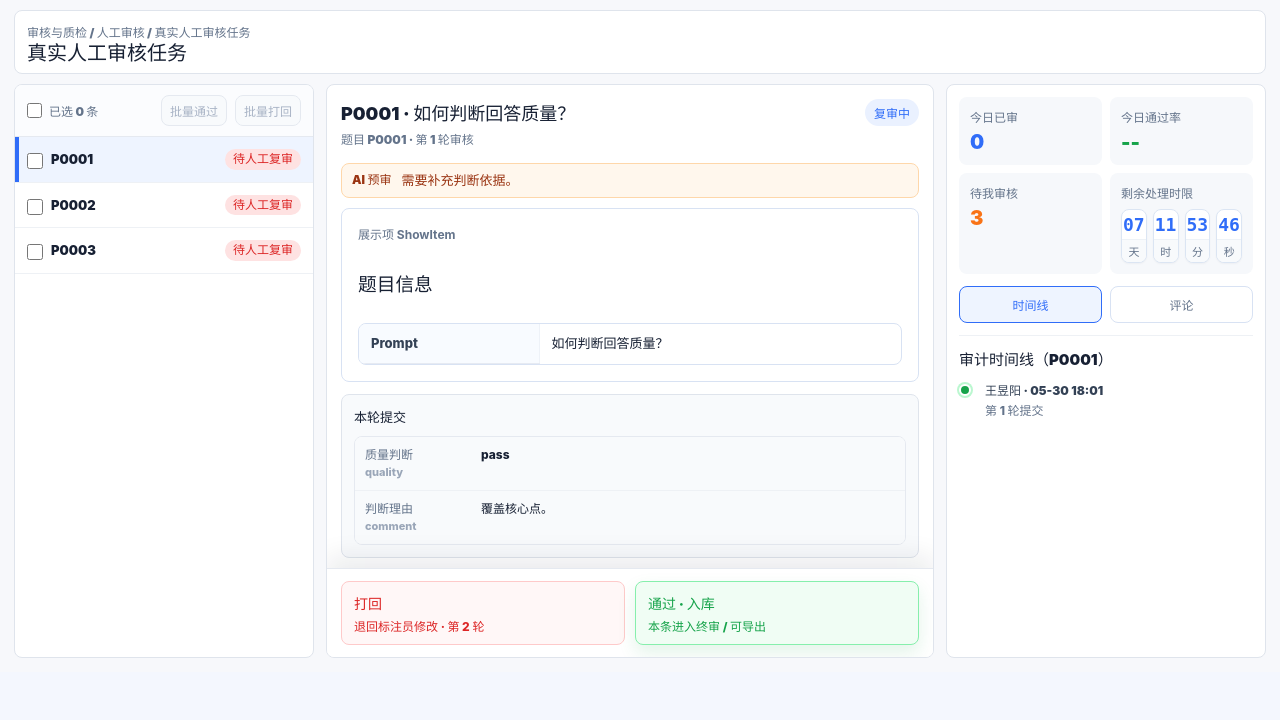
Scenario: ReviewDetailPage › 按 taskId 从真实人工复审接口渲染三栏详情，并支持题目、Tab、多选和操作 toast
The width and height of the screenshot is (1280, 720).
Expected: the heading "真实人工审核任务" is shown, [27,41,187,65]
Expected: the text "已选 0 条" is shown, [49,102,98,119]
Click the checkbox named "全选题目": (34, 111) [27,103,42,118]
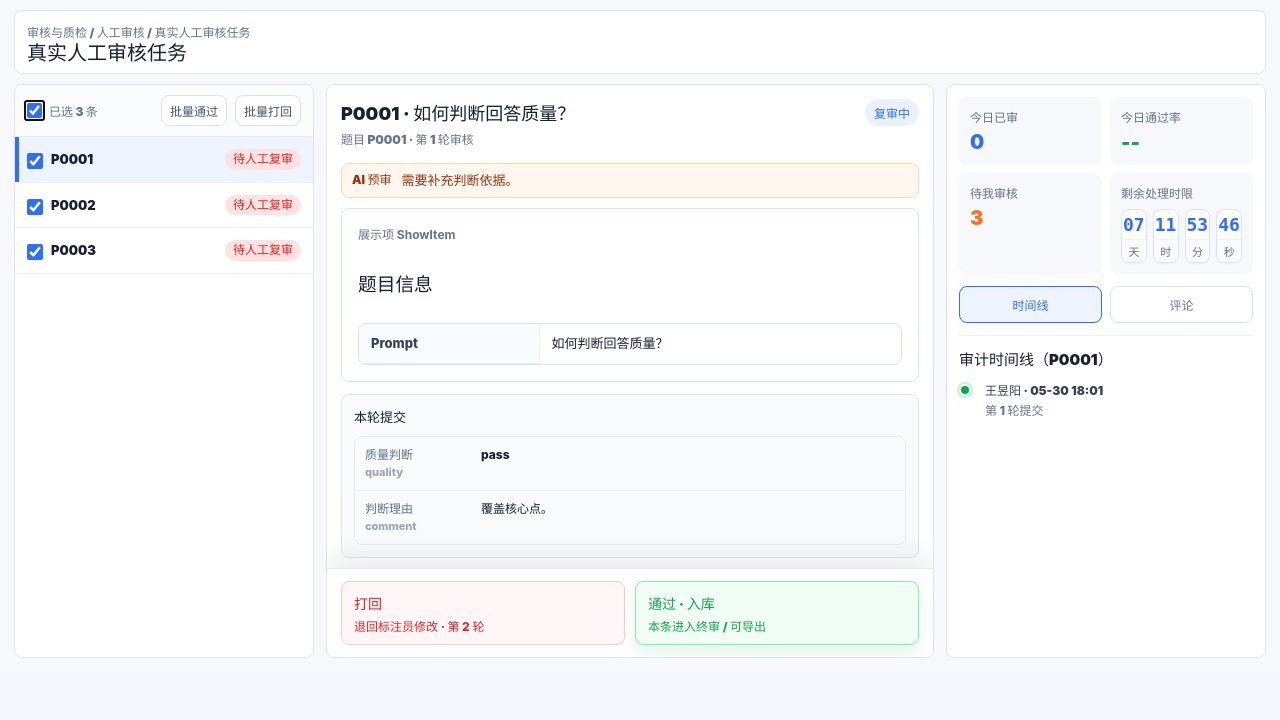
Now the checkbox named "全选题目" is checked
Now the checkbox named "选择 P0001" is checked, box [27,153,43,169]
Now the checkbox named "选择 P0002" is checked, box [27,199,43,215]
Click the checkbox named "全选题目": (34, 111) [27,103,42,118]
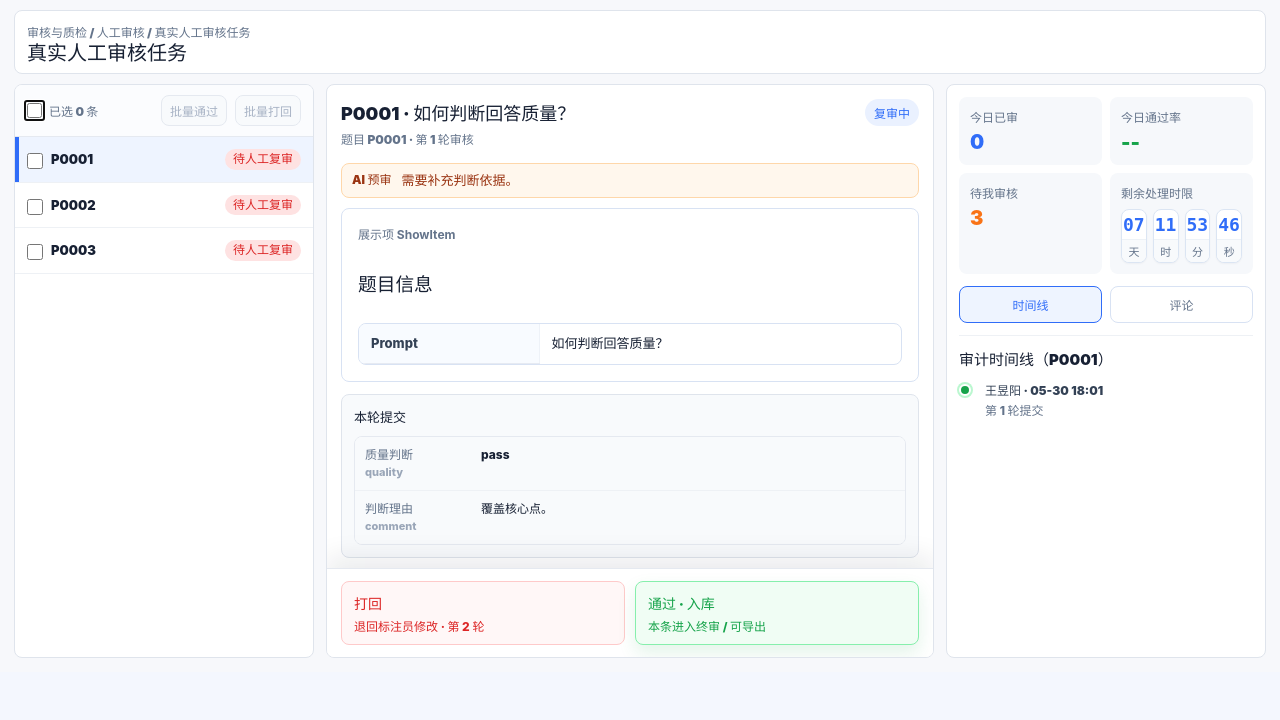
Now the checkbox named "全选题目" is not checked, box [27,103,42,118]
Now the checkbox named "选择 P0001" is not checked
Now the checkbox named "选择 P0002" is not checked, box [27,199,43,215]
Click the checkbox named "选择 P0001": (35, 161) [27,153,43,169]
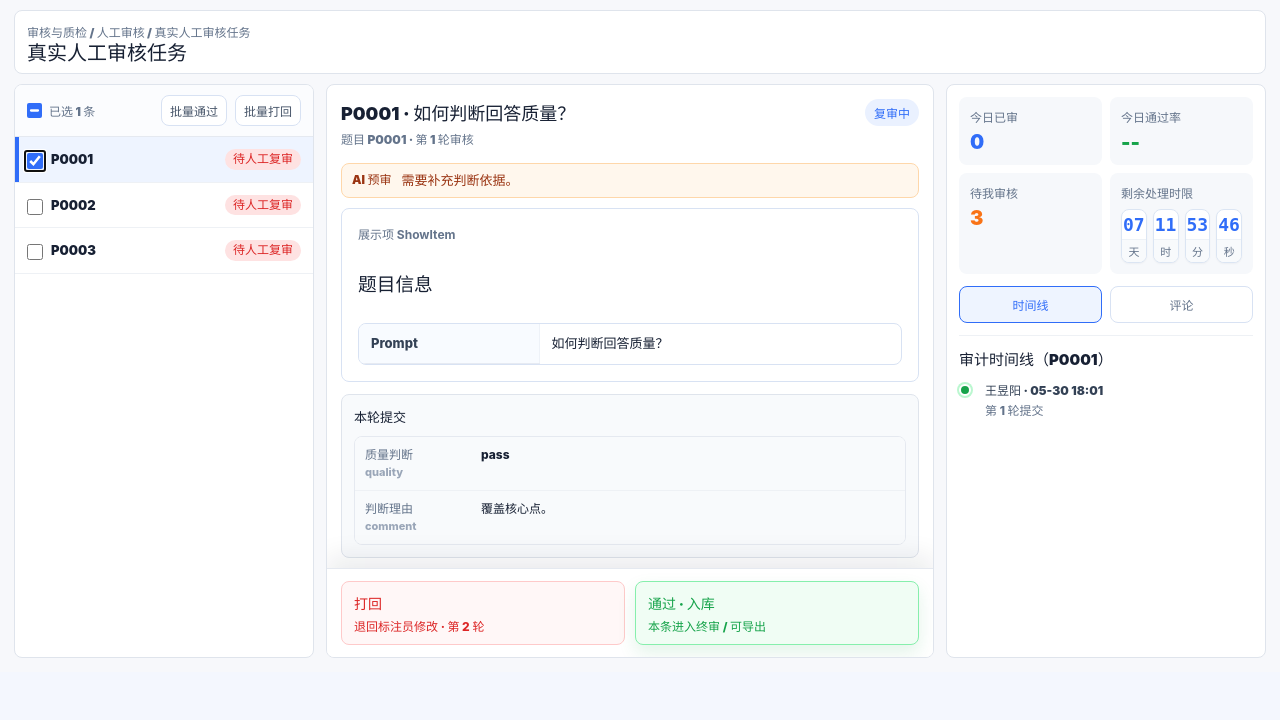
Now the text "已选 1 条" is shown, box [49,102,95,119]
Click the button "P0002 待人工复审": (176, 205) [51,195,301,215]
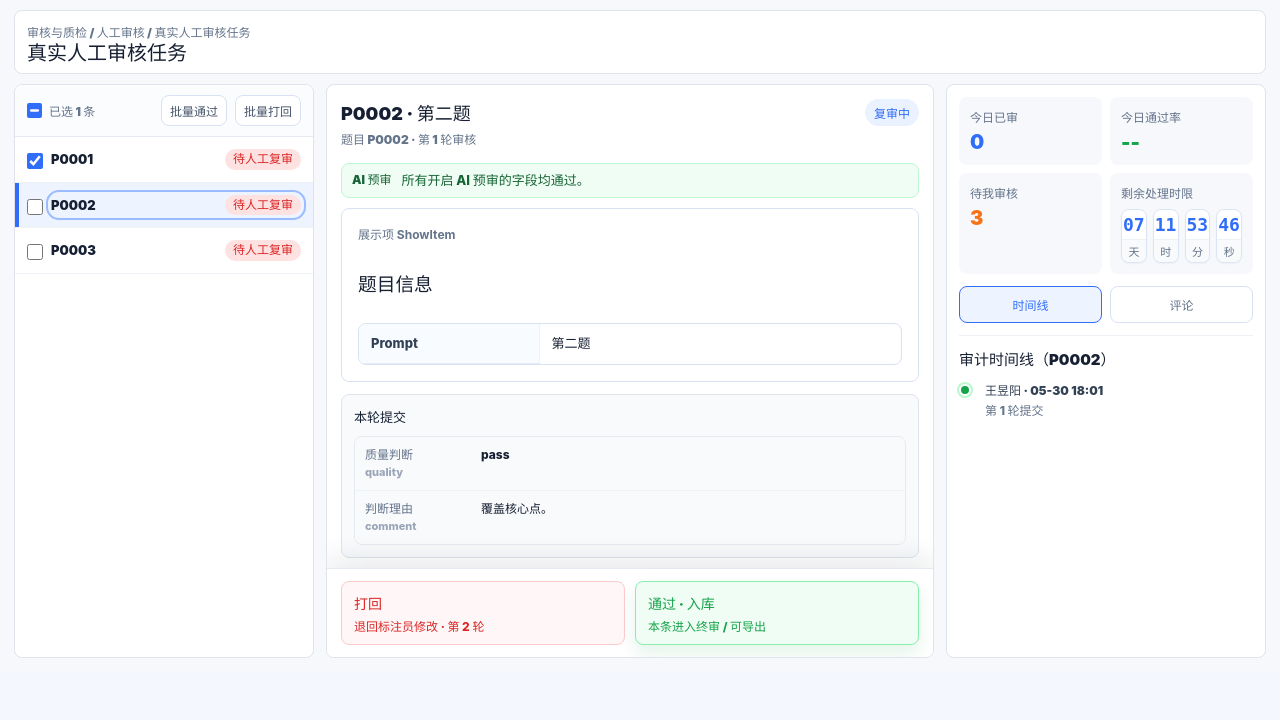
Expected: the text "P0002" is shown, [51,196,96,212]
Now the heading "P0002 · 第二题" is shown, box [341,99,476,125]
Click the button "通过 · 入库 本条进入终审 / 可导出": (681, 603) [635,581,919,645]
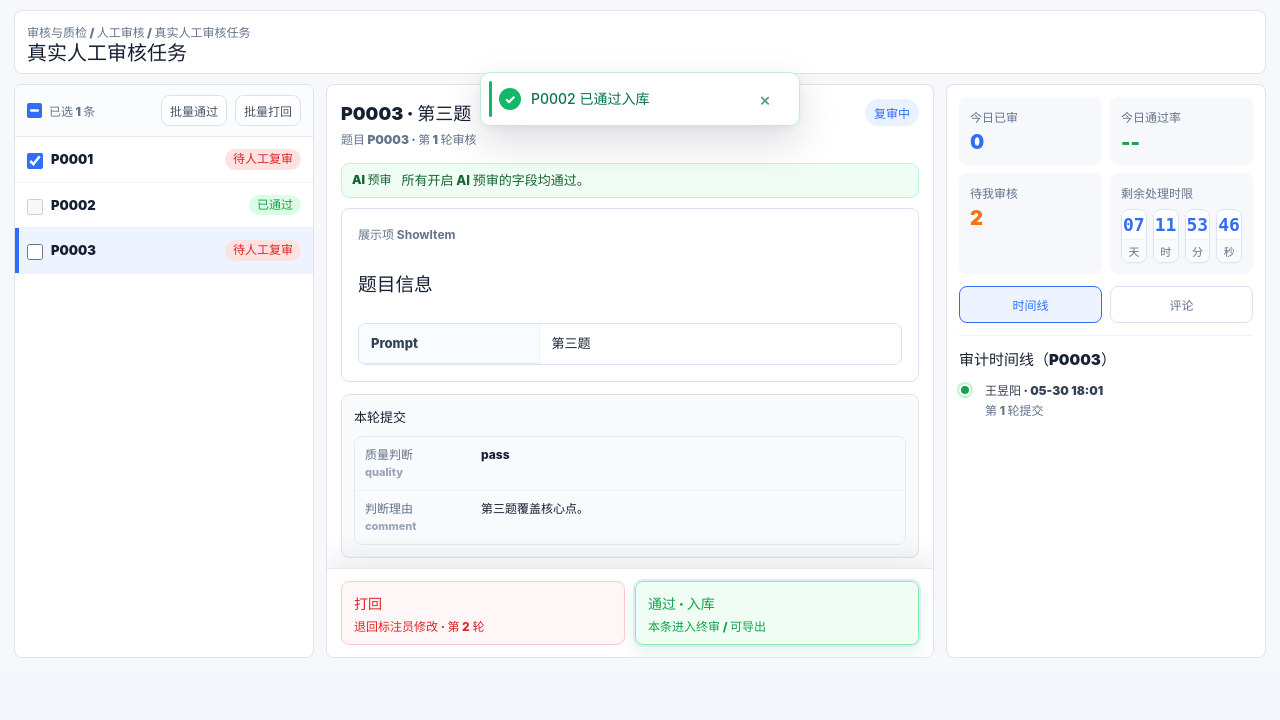
Now the message shows "P0002 已通过入库", box [531,90,650,107]
Now the button "P0002 已通过" is shown, box [51,195,301,215]
Now the heading "P0003 · 第三题" is shown, box [341,99,476,125]
